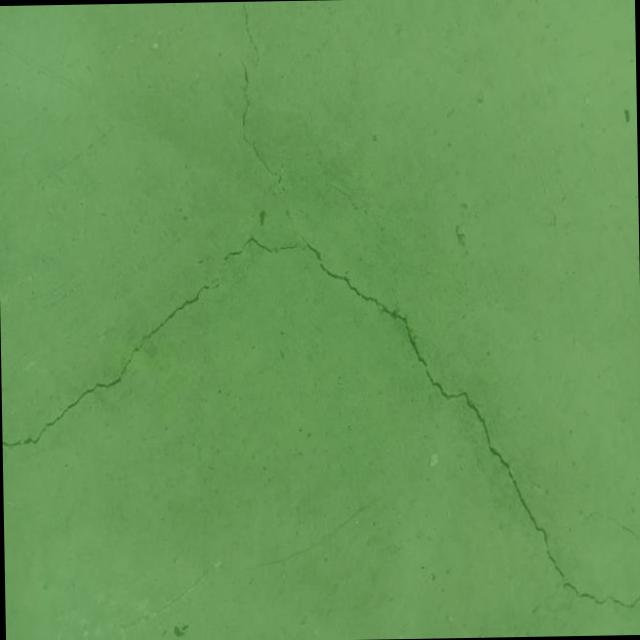crack: (0, 50, 640, 620), (575, 508, 640, 547), (330, 184, 370, 218), (241, 1, 260, 67)
